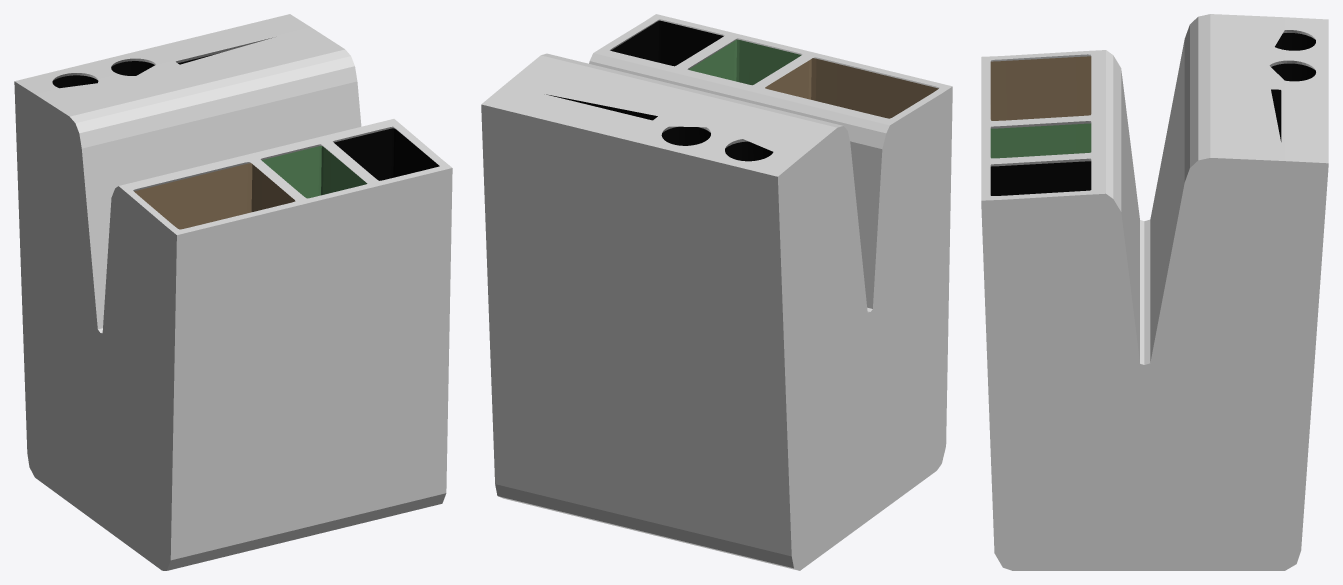
Rendered from flux_bin.fbx.
The picture shows the model from 3 angles, left to right: view 1: azimuth 30°, elevation 25°; view 2: azimuth 150°, elevation 25°; view 3: azimuth 270°, elevation 25°; orthographic projection. The views are drawn at different scales.
Visible parts, largest first — view 1: Cube.001; view 2: Cube.001; view 3: Cube.001.
Part boxes in pixels (left/top/right/bottom): Cube.001: left=14, top=14, right=452, bottom=570; Cube.001: left=481, top=14, right=952, bottom=570; Cube.001: left=981, top=14, right=1328, bottom=570.
Bounding box in the file's own units: 144 × 193 × 147.
